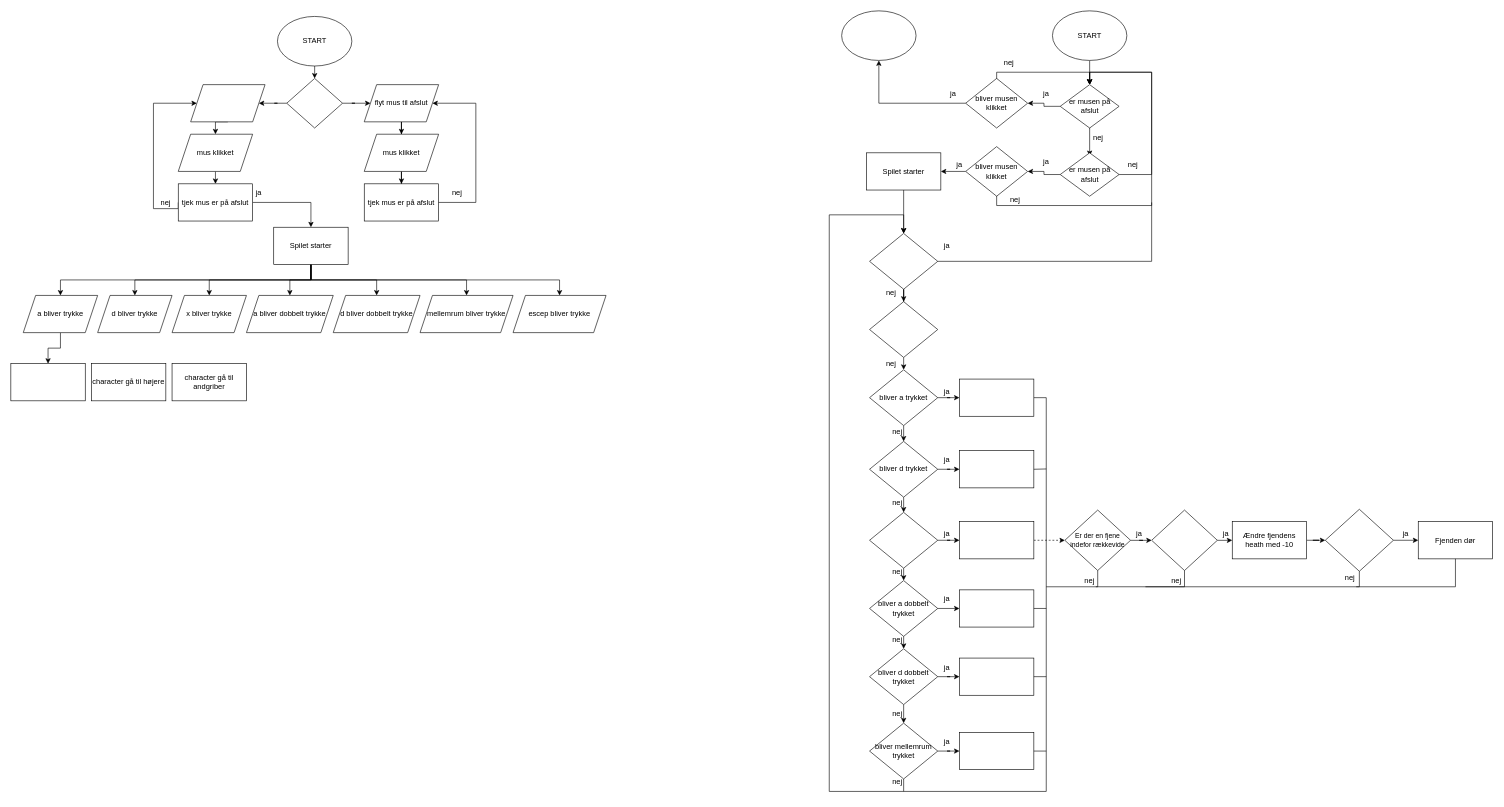
Some shapes in this 1504 by 807 pixel diagram are drawn without their labels. The shapes that lost their labels are listed below. From the top down, each one's centre as x and y in pixels, then its label:
At pixel 878 35: "SLUT".
At pixel 227 103: "flyt mus til spil".
At pixel 314 103: "spil eller afslut".
At pixel 903 261: "bliver esc trykket".
At pixel 903 329: "bliver karakteren angrebet".
At pixel 47 382: "character gå til venstre".
At pixel 996 397: "Karakteren går til venstre".
At pixel 996 469: "Karakteren går til højere".
At pixel 903 540: "bliver x trykket".
At pixel 996 540: "karakteren angriber".
At pixel 1184 540: "er fjenden i live".
At pixel 1359 540: "Har fjenden =< 0 heath".
At pixel 996 608: "karakteren dasher til venstre".
At pixel 996 676: "karakteren dasher til højere".
At pixel 996 751: "karakteren hopper".
